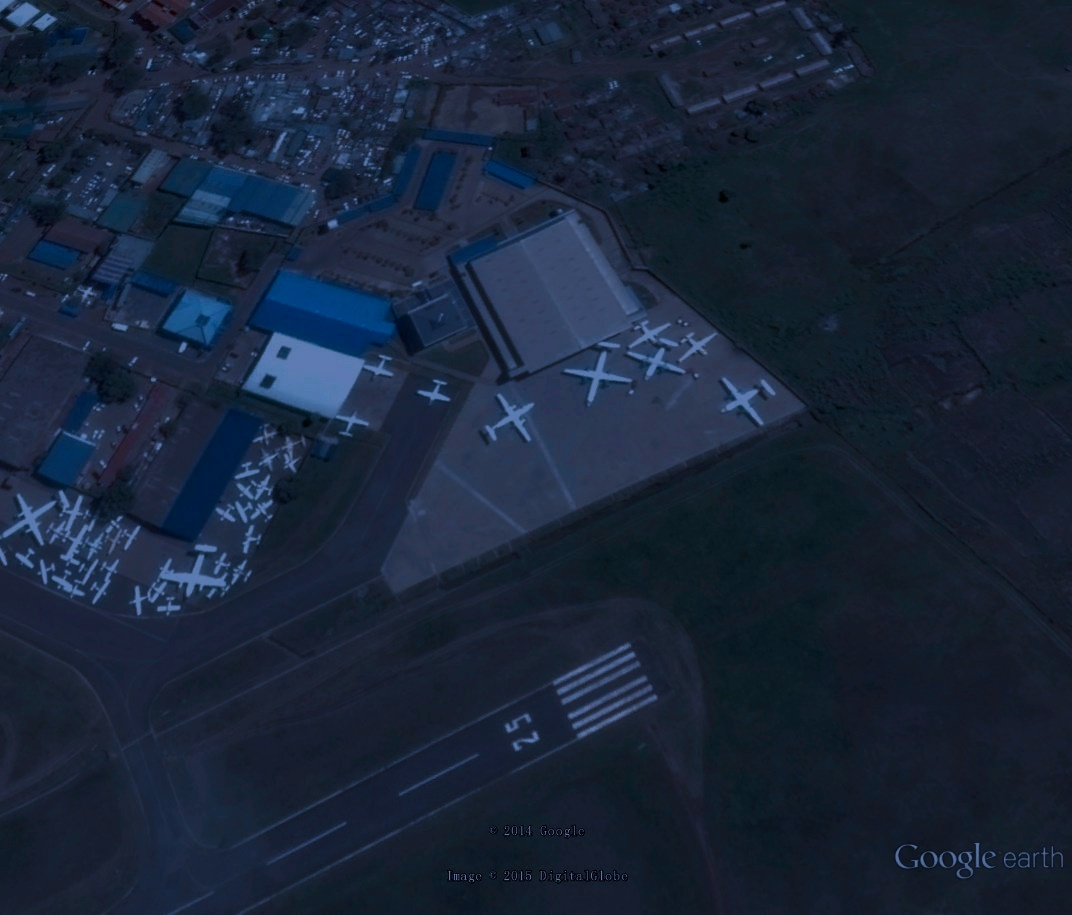aircraft: (558, 340, 636, 409), (4, 487, 75, 555), (158, 539, 233, 602), (717, 373, 781, 433), (477, 391, 538, 447), (625, 336, 689, 384), (677, 327, 721, 365), (628, 319, 678, 350), (58, 490, 92, 534), (63, 522, 94, 567), (361, 352, 400, 386), (417, 377, 455, 410), (334, 411, 373, 443), (223, 557, 258, 589), (272, 433, 314, 459), (247, 493, 278, 527), (236, 523, 267, 557), (126, 584, 154, 618), (246, 473, 279, 501), (116, 522, 144, 555), (33, 555, 61, 588), (87, 580, 116, 610), (153, 594, 184, 622), (44, 521, 73, 549), (229, 479, 259, 506), (209, 502, 239, 529), (250, 422, 279, 449), (80, 534, 107, 562), (12, 544, 40, 571), (95, 556, 121, 585), (229, 499, 254, 529), (59, 578, 85, 606), (101, 528, 126, 557), (233, 460, 264, 483), (253, 449, 279, 476), (147, 578, 172, 606), (58, 549, 84, 575), (50, 568, 75, 595), (77, 560, 102, 587), (154, 556, 178, 584), (102, 511, 129, 535), (279, 453, 305, 477), (210, 551, 233, 576)
